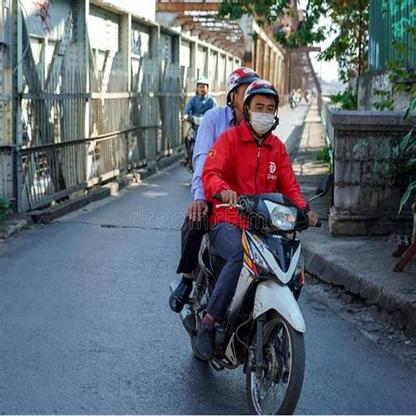target: (170, 66, 322, 413)
